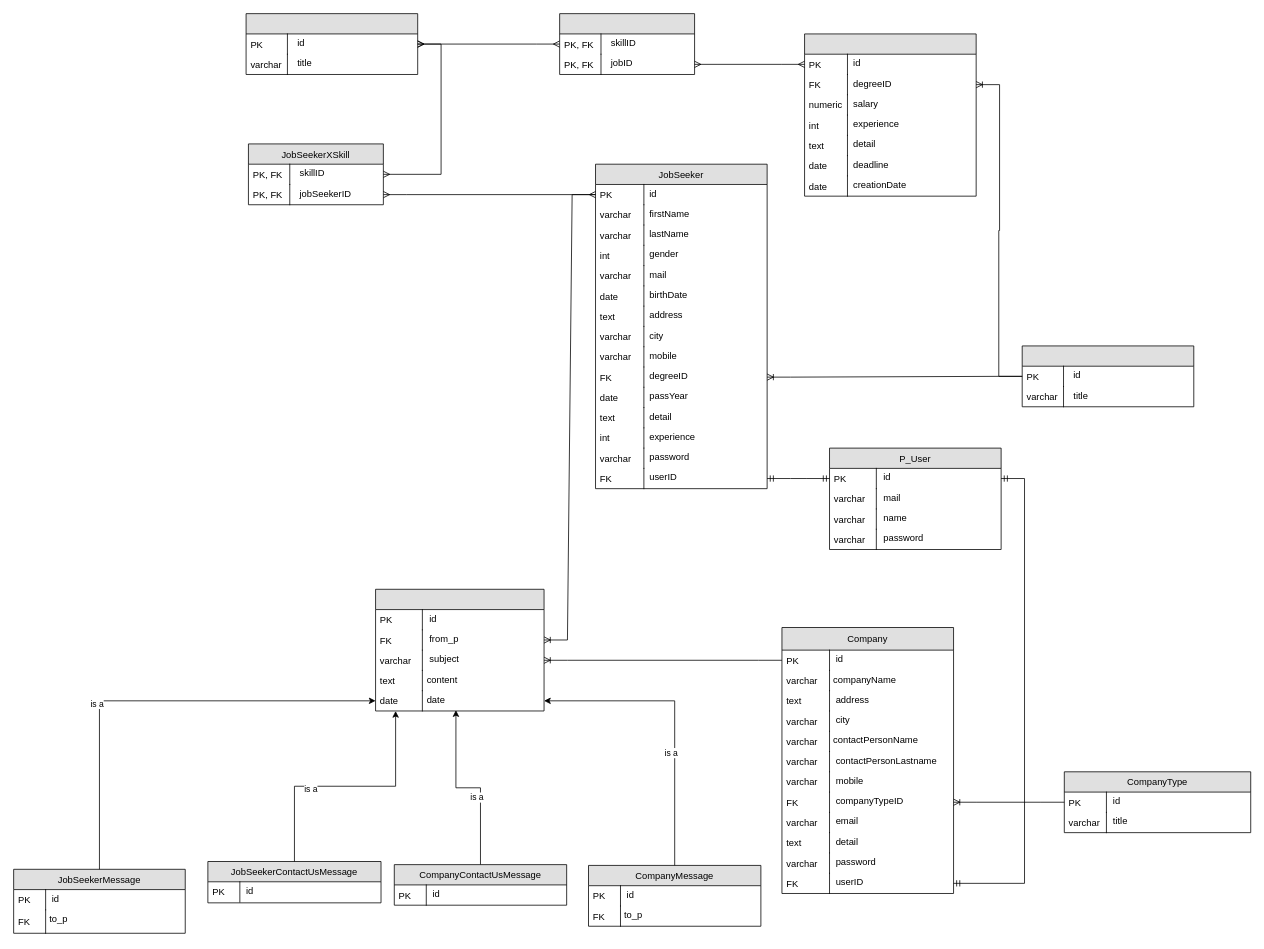
Image size: 1264x949. Some labels were removed from this diagram. Each missing label, with the box of its shape:
Degree: (1021, 345, 1194, 407)
Job: (804, 33, 976, 196)
JobXSkill: (559, 13, 695, 74)
Message: (375, 589, 544, 711)
Skill: (245, 13, 418, 74)
